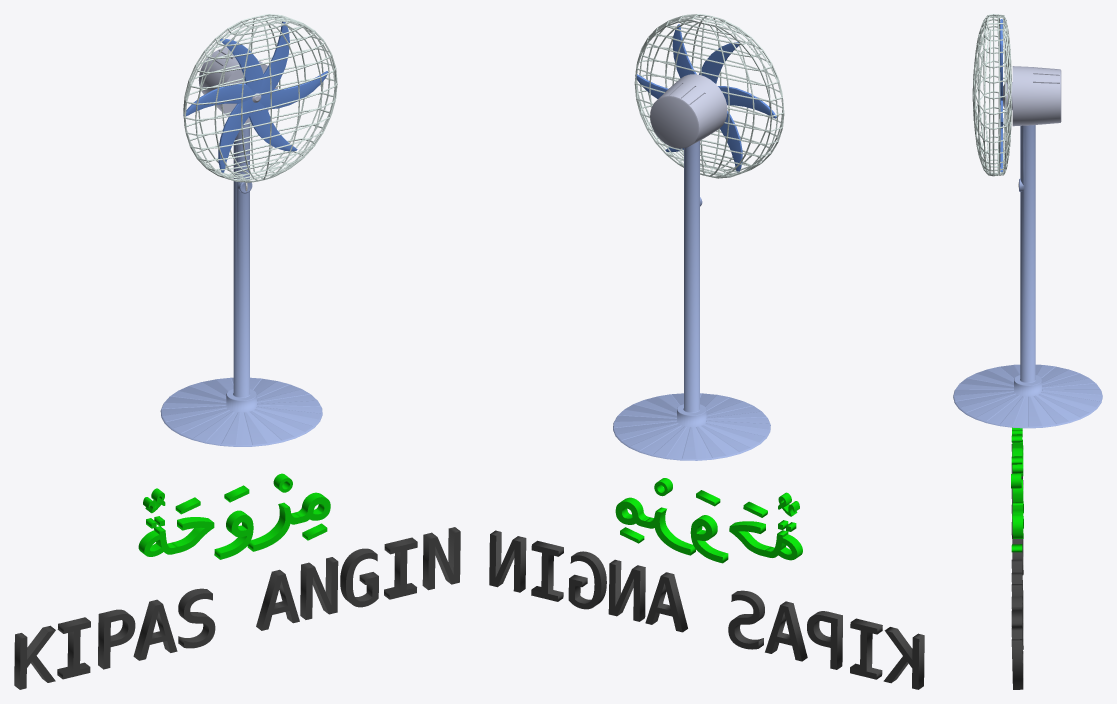
Rendered from Fan.fbx.
3 views of the same model, side by side, from view 1: azimuth 30°, elevation 25°; view 2: azimuth 150°, elevation 25°; view 3: azimuth 270°, elevation 25° (orthographic). The views are drawn at different scales.
Parts seen in each view (by area): view 1: Teks.006, Body, Cage, Heli, Teks, Rotor; view 2: Teks.006, Body, Cage, Teks, Rotor, Heli; view 3: Body, Cage, Rotor, Teks.006, Teks, Heli.
Part boxes in pixels (<box>): Teks.006: <box>14,527,460,689</box>; Body: <box>160,123,322,446</box>; Cage: <box>183,14,337,182</box>; Heli: <box>183,21,328,172</box>; Teks: <box>138,492,330,559</box>; Rotor: <box>198,47,277,123</box>; Teks.006: <box>489,530,924,689</box>; Body: <box>613,141,770,460</box>; Cage: <box>634,14,784,178</box>; Teks: <box>615,497,802,563</box>; Rotor: <box>650,74,727,148</box>; Heli: <box>635,24,776,172</box>; Body: <box>953,125,1102,428</box>; Cage: <box>972,14,1011,176</box>; Rotor: <box>998,66,1061,126</box>; Teks.006: <box>1011,444,1023,689</box>; Teks: <box>1012,427,1023,538</box>; Heli: <box>1000,19,1003,172</box>.
Bounding box in the file's own units: 895 × 1207 × 286.
